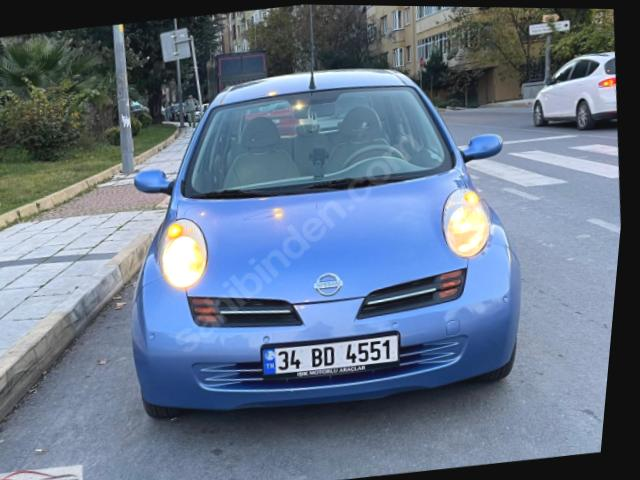plaka: (263, 335, 398, 376)
